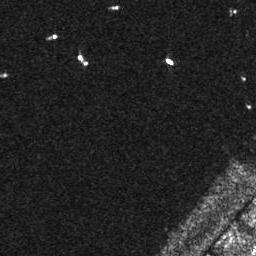ship: (76, 53, 89, 67), (164, 55, 175, 66), (45, 33, 58, 40), (109, 5, 121, 11)
